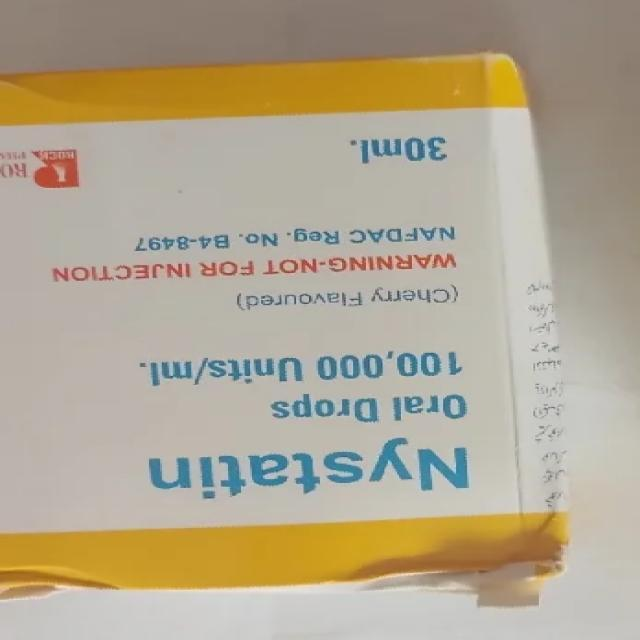drug-name: (131, 430, 486, 510)
